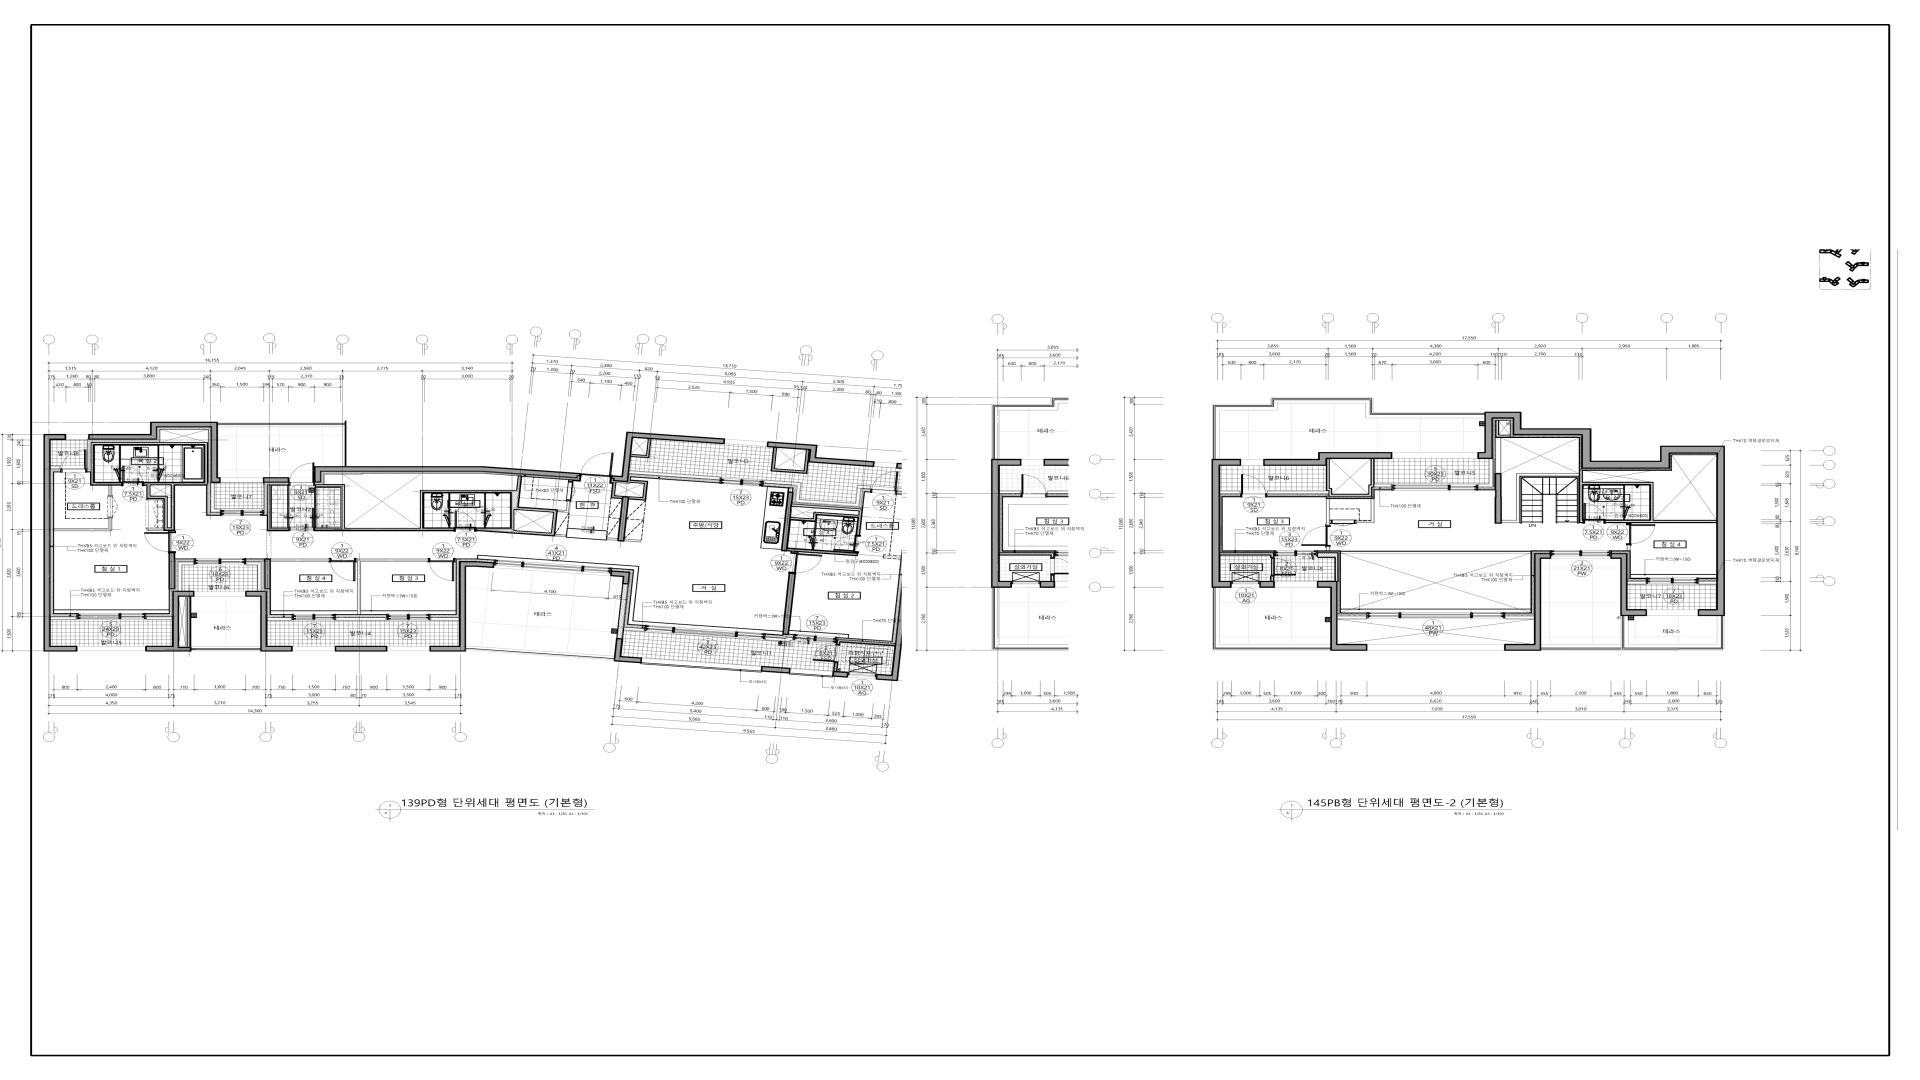door: (579, 450, 615, 484), (789, 551, 823, 575), (144, 531, 177, 554), (870, 469, 899, 495), (330, 558, 357, 582), (429, 558, 456, 582), (61, 450, 87, 473), (289, 508, 315, 531), (1302, 525, 1331, 546), (1626, 524, 1655, 545), (1241, 475, 1267, 497), (833, 533, 861, 553), (812, 644, 840, 663), (290, 463, 314, 485), (121, 465, 144, 487), (1271, 558, 1296, 576), (1584, 504, 1606, 524), (454, 512, 476, 531), (108, 496, 119, 518), (1331, 520, 1356, 526)
wall: (1477, 411, 1725, 616), (1212, 397, 1485, 459), (315, 476, 570, 537), (1502, 469, 1716, 524), (90, 442, 208, 531), (876, 463, 922, 682), (88, 422, 220, 483), (44, 434, 78, 651), (1212, 588, 1331, 650), (1542, 616, 1725, 650), (612, 431, 725, 483), (430, 562, 495, 651), (218, 422, 347, 465), (1267, 459, 1391, 497), (1505, 554, 1551, 651), (314, 467, 580, 483), (357, 559, 429, 615), (187, 597, 260, 651), (1212, 459, 1241, 588), (1317, 582, 1367, 651), (764, 480, 872, 508), (145, 591, 194, 651), (245, 591, 293, 651), (767, 442, 874, 467), (791, 504, 864, 535), (1610, 554, 1647, 616), (467, 646, 615, 661), (1263, 452, 1393, 465), (617, 584, 645, 638), (266, 485, 289, 531), (771, 448, 810, 473), (782, 574, 796, 636), (629, 471, 720, 480), (1495, 421, 1511, 473), (781, 488, 794, 551), (54, 518, 112, 531), (615, 638, 642, 663), (787, 547, 858, 556), (1317, 553, 1338, 582), (617, 496, 629, 542), (1356, 498, 1374, 524), (178, 562, 194, 591), (247, 562, 261, 591), (629, 480, 649, 501), (1478, 459, 1493, 487), (1494, 473, 1502, 524), (632, 439, 651, 459), (836, 640, 895, 646), (1220, 553, 1274, 558), (211, 483, 220, 513), (335, 646, 388, 651), (611, 571, 630, 584), (761, 666, 791, 674), (169, 554, 175, 589), (264, 558, 270, 589), (336, 617, 386, 621), (611, 483, 622, 498), (270, 559, 330, 562), (765, 637, 793, 642), (262, 477, 289, 483), (1505, 616, 1534, 620), (430, 617, 459, 621), (1337, 616, 1366, 620), (1259, 582, 1275, 588), (832, 671, 848, 678), (268, 617, 291, 621), (1220, 491, 1241, 495), (1327, 498, 1329, 525), (51, 617, 76, 620), (146, 617, 171, 620), (897, 488, 911, 492), (1627, 582, 1646, 584), (1698, 582, 1716, 584), (625, 539, 641, 542), (833, 663, 839, 671), (108, 485, 112, 496), (51, 465, 61, 469), (607, 538, 617, 541), (1270, 576, 1274, 582), (1627, 545, 1630, 550), (1327, 546, 1329, 550)
window: (495, 559, 612, 576), (645, 625, 766, 640), (642, 658, 761, 673), (1366, 612, 1505, 618), (1367, 645, 1505, 650), (1391, 484, 1478, 491), (1393, 452, 1477, 459), (1551, 550, 1610, 558), (76, 613, 146, 620), (720, 477, 764, 487), (794, 634, 837, 644), (790, 669, 832, 678), (78, 646, 145, 651), (1646, 578, 1698, 584), (194, 558, 247, 564), (291, 613, 335, 621), (386, 613, 430, 621), (725, 439, 767, 447), (1274, 550, 1317, 556), (220, 509, 264, 516), (1647, 611, 1697, 616), (1275, 582, 1317, 587), (220, 477, 262, 483), (293, 646, 335, 651), (388, 646, 430, 651), (195, 592, 245, 596), (848, 673, 877, 679), (1241, 459, 1263, 465), (874, 462, 897, 468), (1232, 582, 1259, 587), (66, 435, 88, 439)
